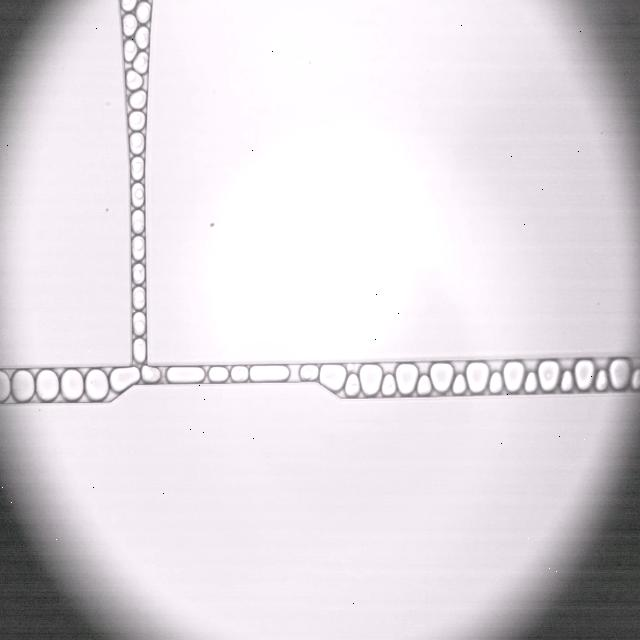L: (345, 374, 360, 396), (141, 366, 160, 383), (127, 70, 143, 90), (136, 2, 151, 23), (133, 52, 148, 73), (131, 183, 144, 207), (133, 338, 146, 362), (123, 14, 137, 36), (135, 27, 149, 49), (130, 157, 144, 179), (382, 374, 396, 396), (129, 90, 146, 108), (129, 111, 145, 130), (130, 133, 144, 154), (132, 210, 144, 234), (132, 236, 144, 260), (124, 40, 137, 62), (132, 287, 145, 309), (209, 367, 228, 382), (417, 375, 431, 395), (133, 312, 145, 335), (489, 372, 502, 393), (524, 372, 537, 393), (231, 366, 248, 382), (300, 365, 318, 380), (453, 374, 466, 394), (561, 370, 573, 391), (595, 370, 607, 391), (132, 264, 144, 284), (631, 369, 640, 389), (121, 0, 137, 11)
S: (109, 367, 140, 393), (12, 370, 35, 402), (36, 369, 59, 401), (359, 365, 382, 396), (395, 363, 418, 394), (466, 362, 489, 393), (320, 365, 346, 392), (61, 369, 83, 400), (86, 369, 108, 400), (608, 359, 630, 389), (430, 363, 453, 391), (503, 361, 524, 391), (538, 361, 559, 391), (250, 366, 289, 382), (574, 360, 594, 390), (167, 367, 204, 383), (0, 370, 10, 402)
